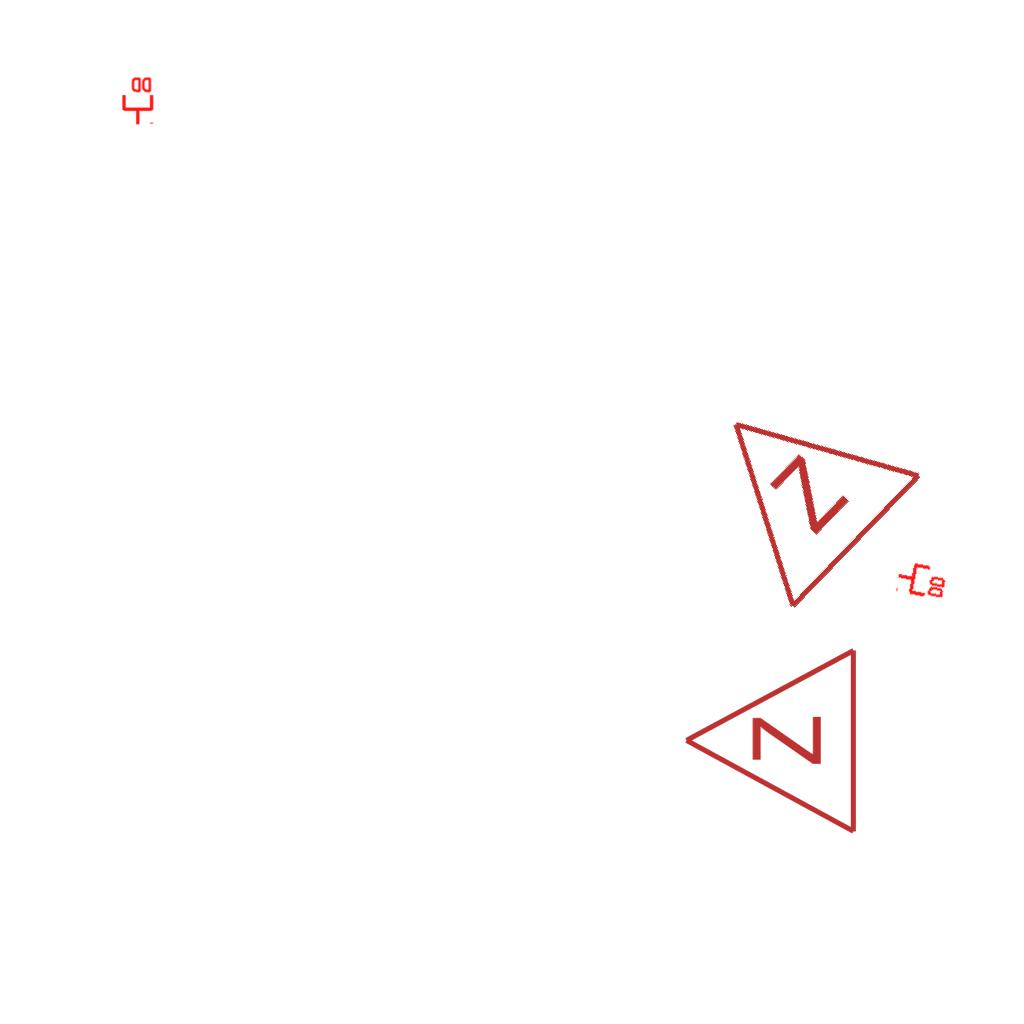Datenanschluss_zweifach: (893, 557, 951, 602), (120, 75, 154, 126)
Zimmersignalleuchte: (654, 345, 936, 625), (671, 645, 871, 841)
